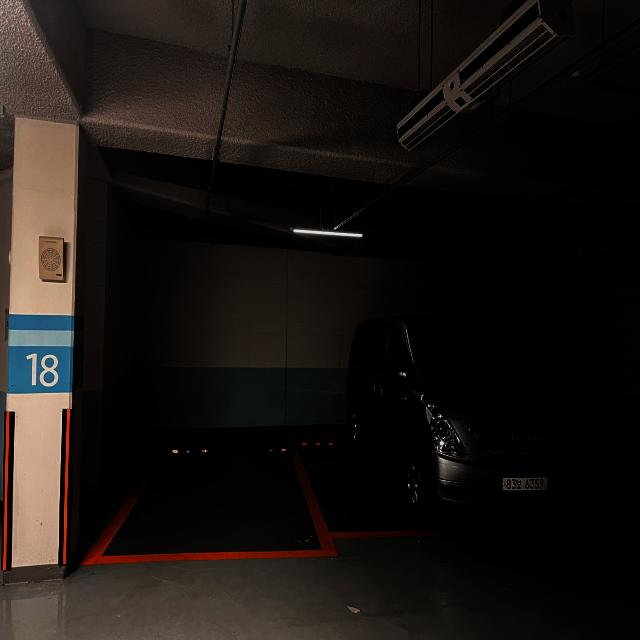empty: (87, 434, 331, 560)
occupied: (327, 303, 588, 538)
